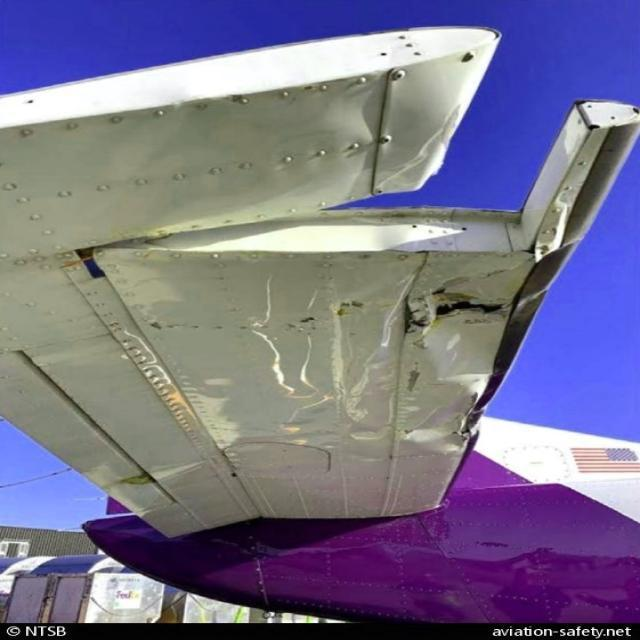dent: (413, 409, 469, 450)
